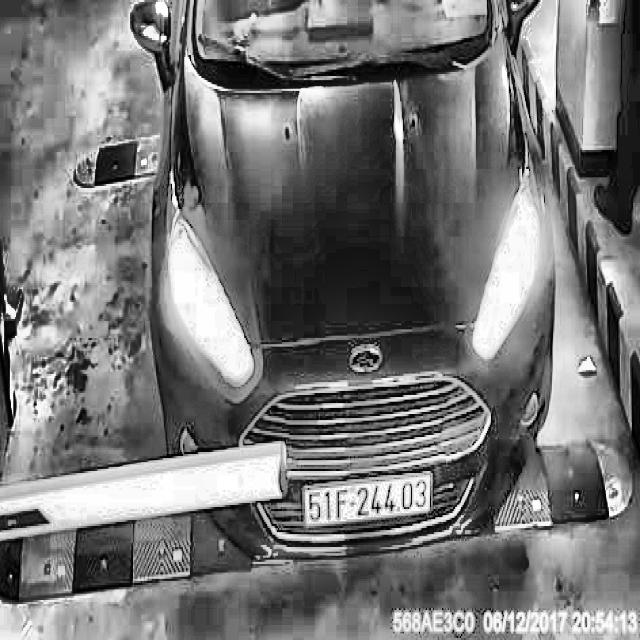plate: (302, 468, 435, 536)
